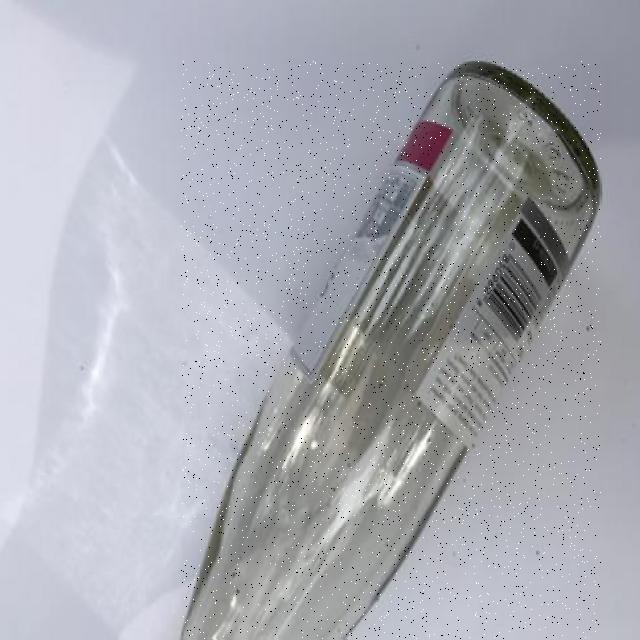glass: (182, 61, 601, 639)
